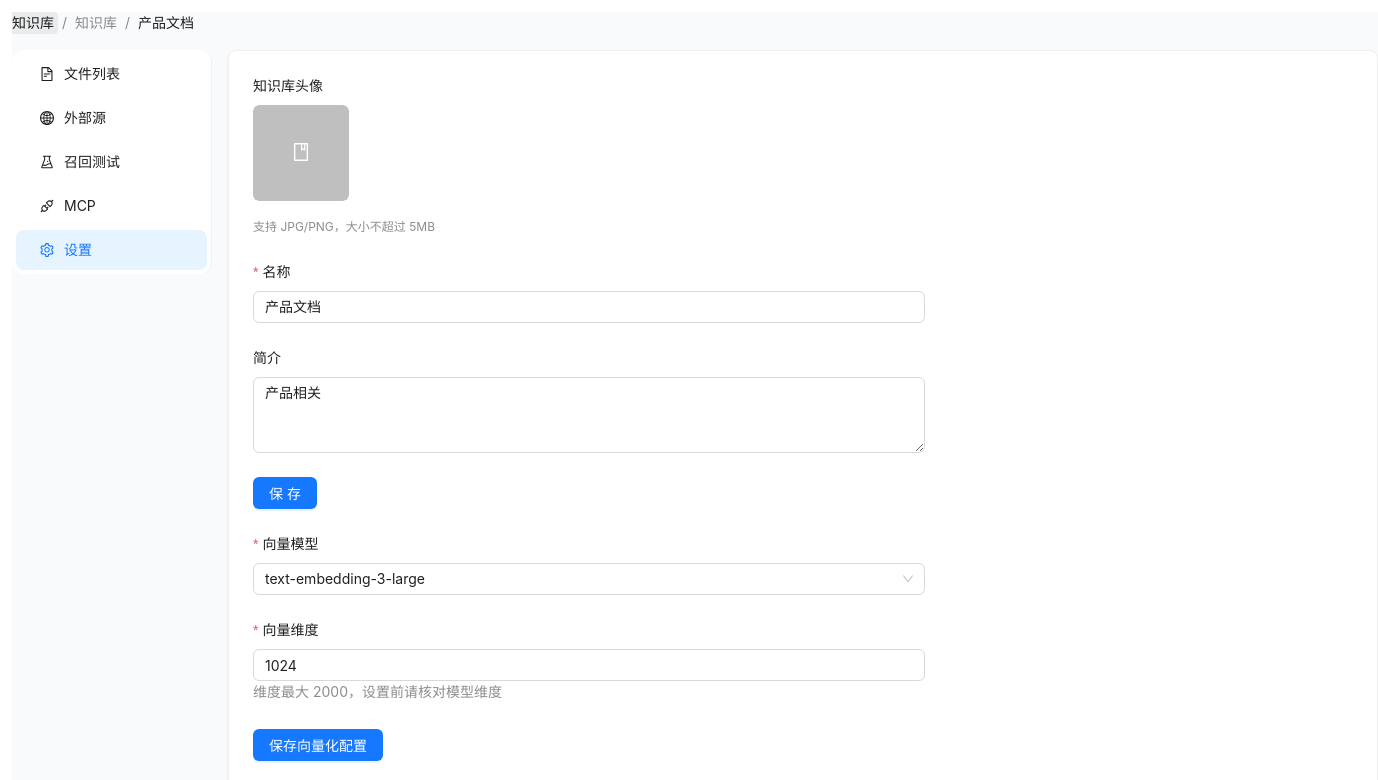
Test: WikiDetail › 管理员保存向量化配置成功后刷新详情并回显新维度
Click the button "保存向量化配置": {"x": 318, "y": 745} [253,729,383,761]
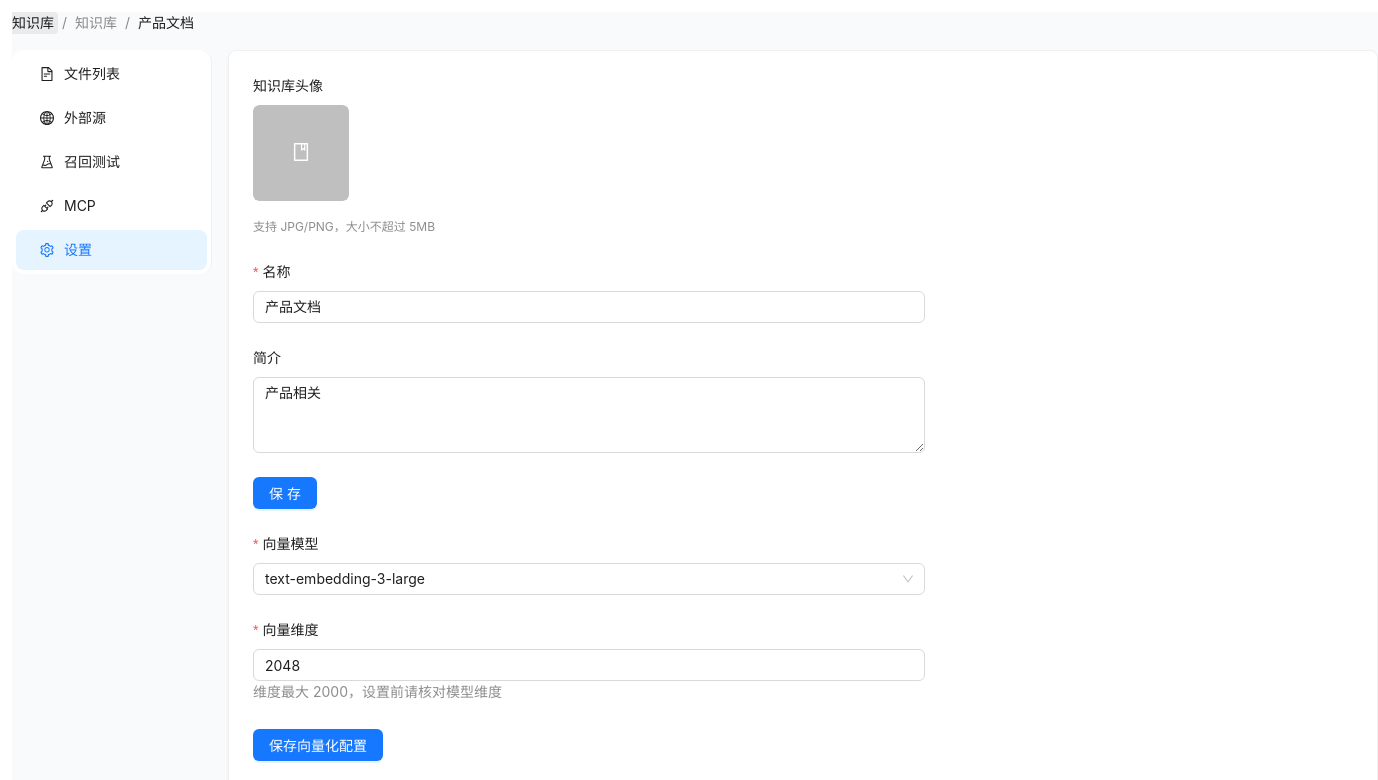
Expected: the dropdown labelled "向量维度" holds "2048", [265,650,913,680]
